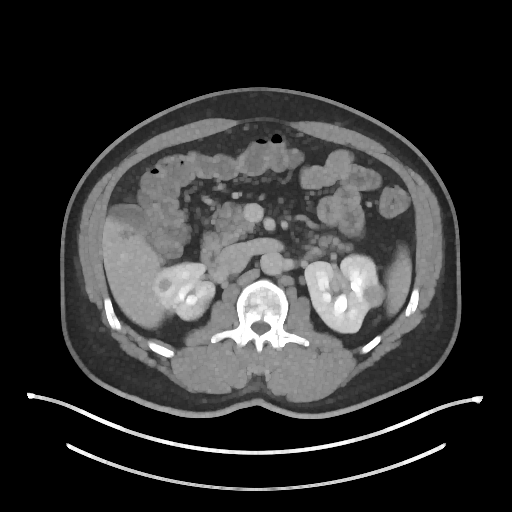Lesion: (360, 281, 388, 311)
